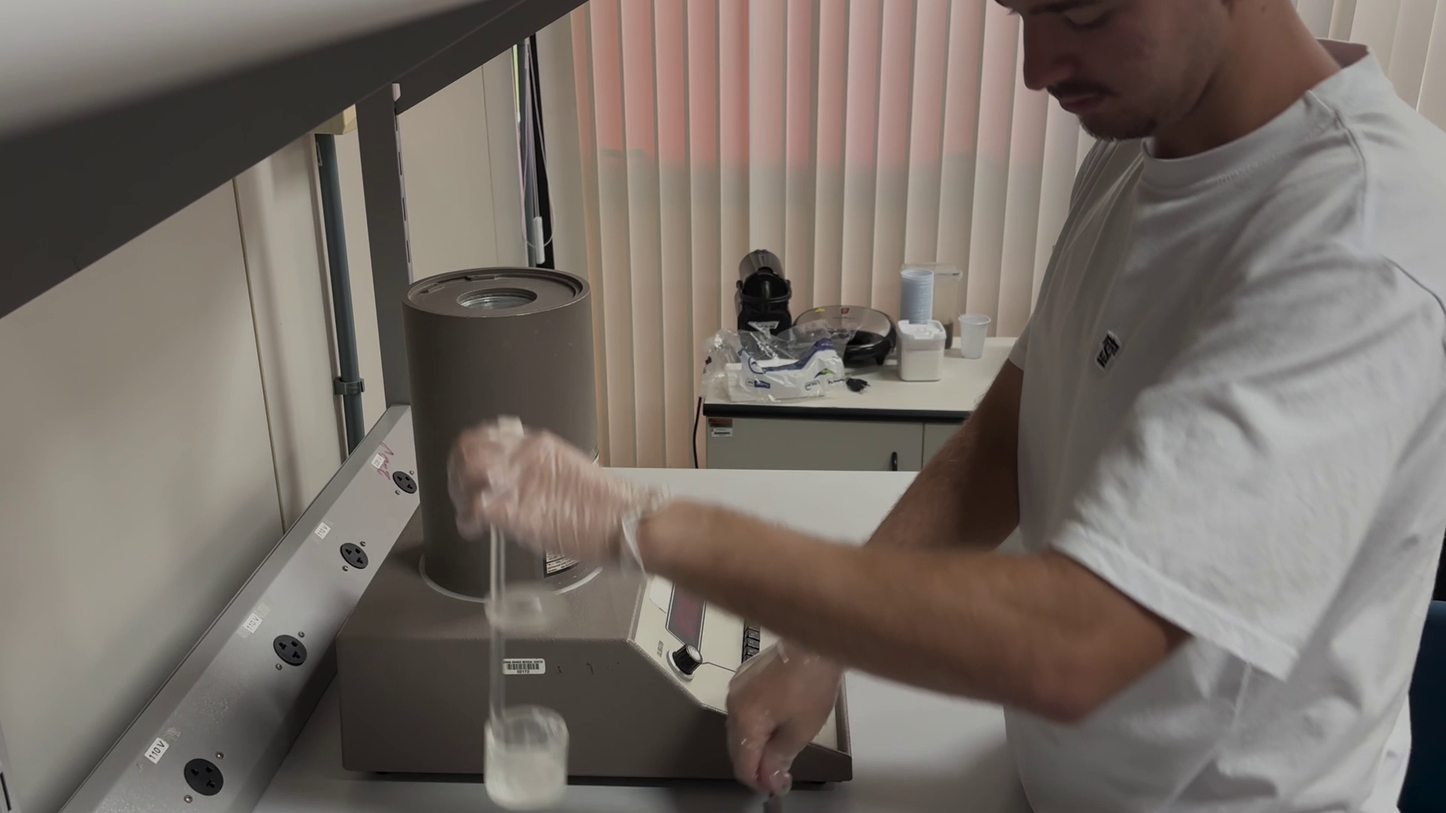Ativimetro: (399, 247, 610, 586)
Cesta: (480, 410, 572, 811)
Com_Luva: (725, 632, 845, 796)
